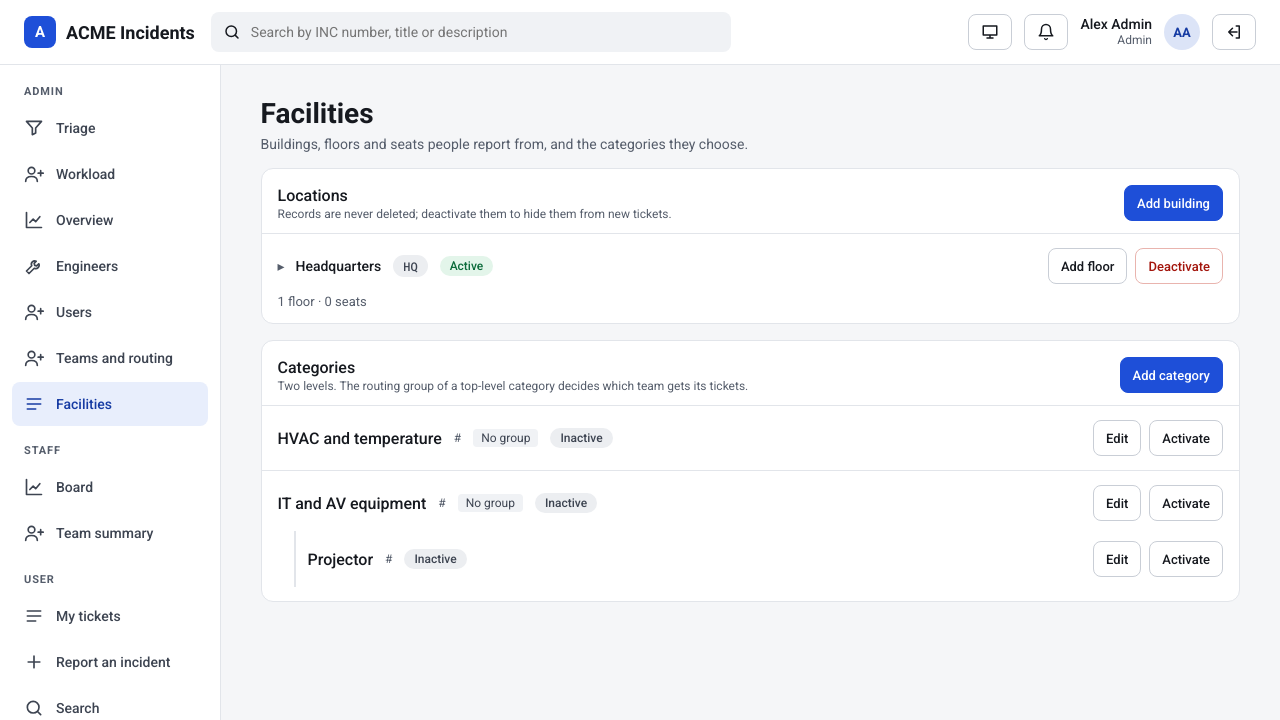
facility errors › says how many open tickets block a deactivation
This screenshot has width=1280, height=720.
Expected: the heading "Facilities" is shown, [260,97,374,130]
What coordinates should you click on to do the following:
click the button "Deactivate"
I would click on:
 (1179, 266)
Its box is [1136,248,1223,284].
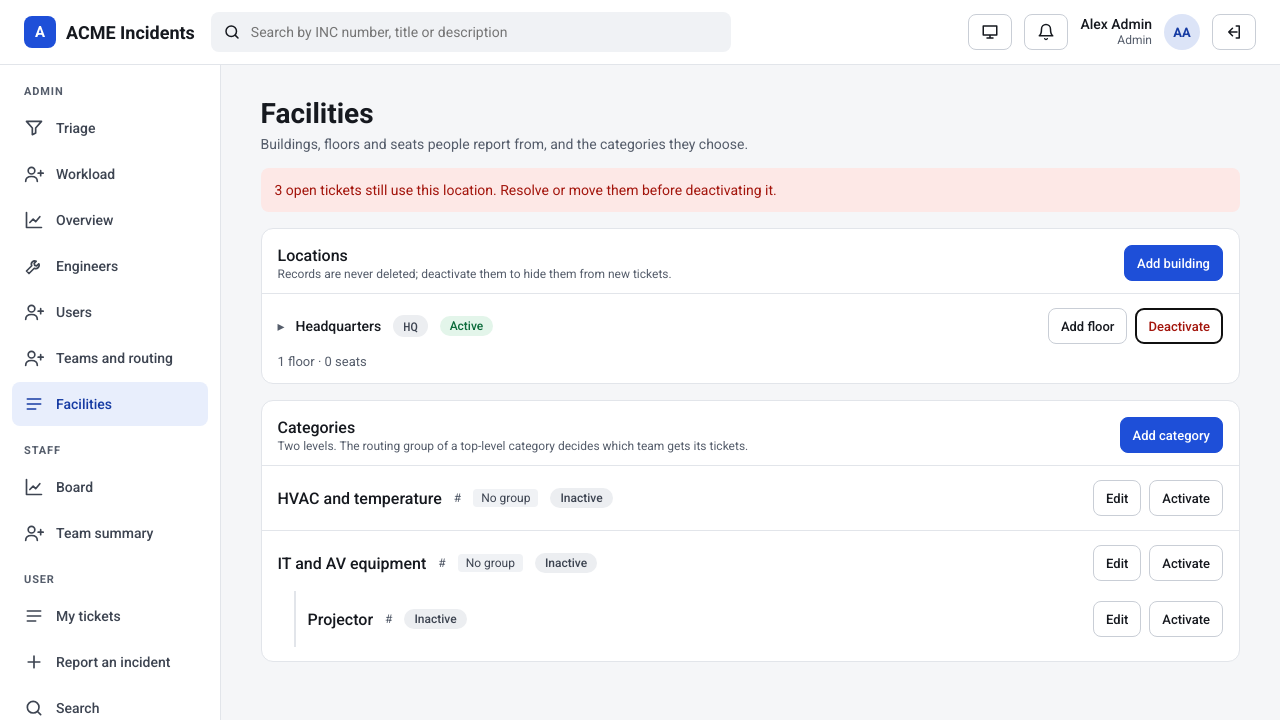
Expected: the message shows "3 open tickets still use this location.", [274,182,777,198]
